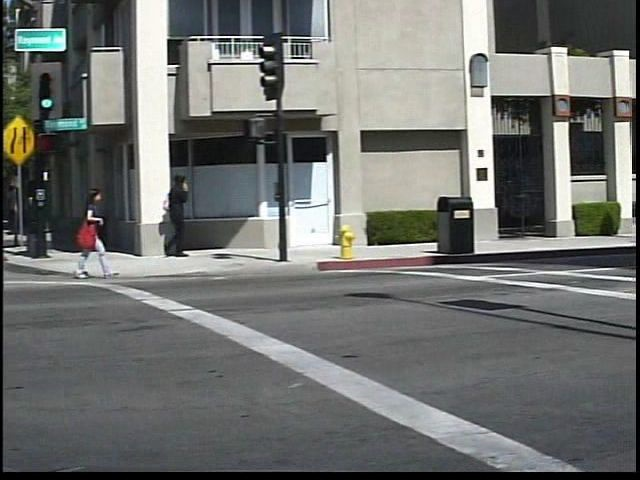person: (70, 183, 120, 283), (159, 171, 206, 261)
